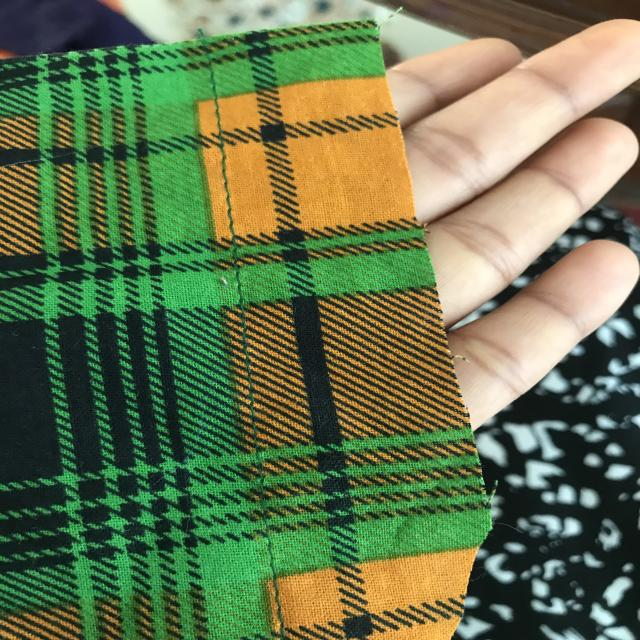good: (210, 154, 248, 230)
